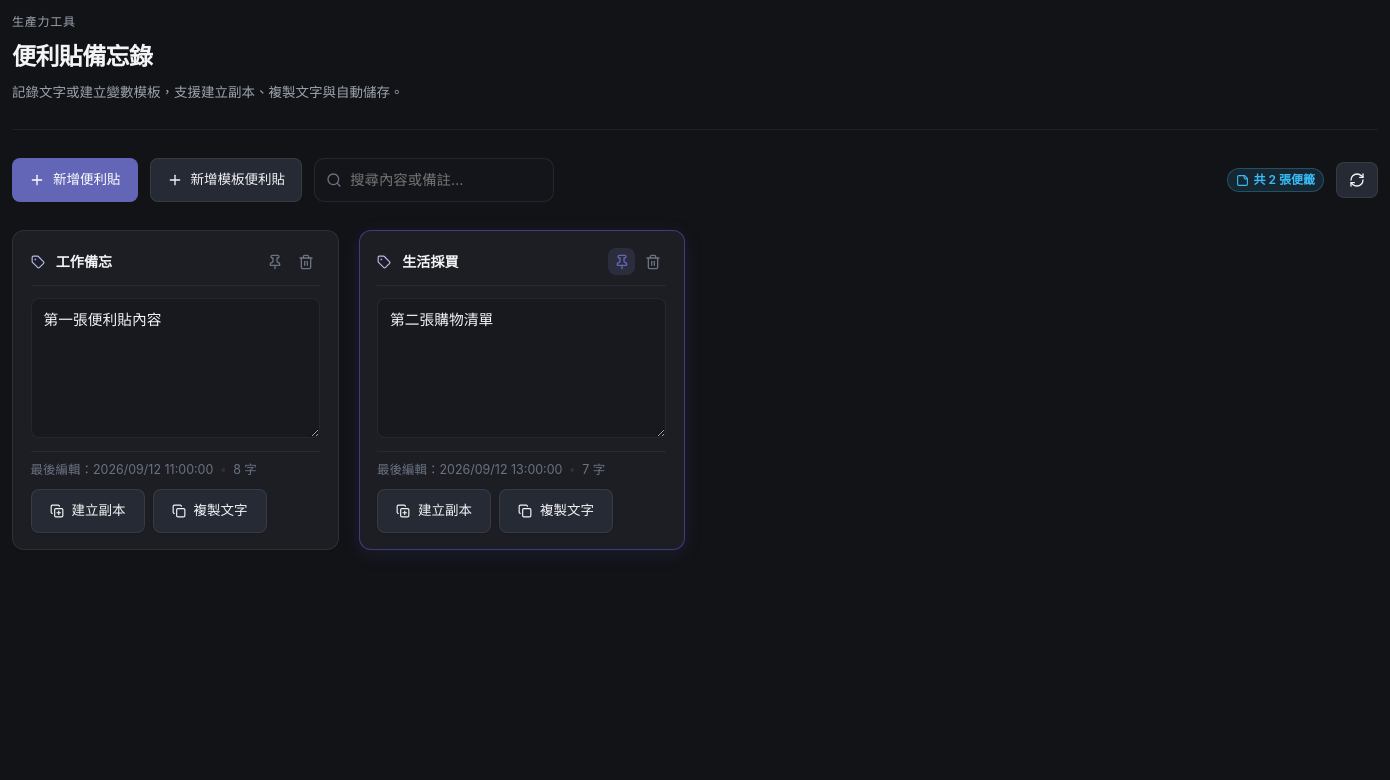
Test case: StickyNotesPage › filters notes based on search query
The width and height of the screenshot is (1390, 780).
Expected: the 1st text box showing "第一張便利貼內容" is shown, [31,298,320,438]
Expected: the 2nd text box showing "第二張購物清單" is shown, [377,298,666,438]
In the field named "搜尋便利貼": (434, 180) [314,158,554,202], type "購物"
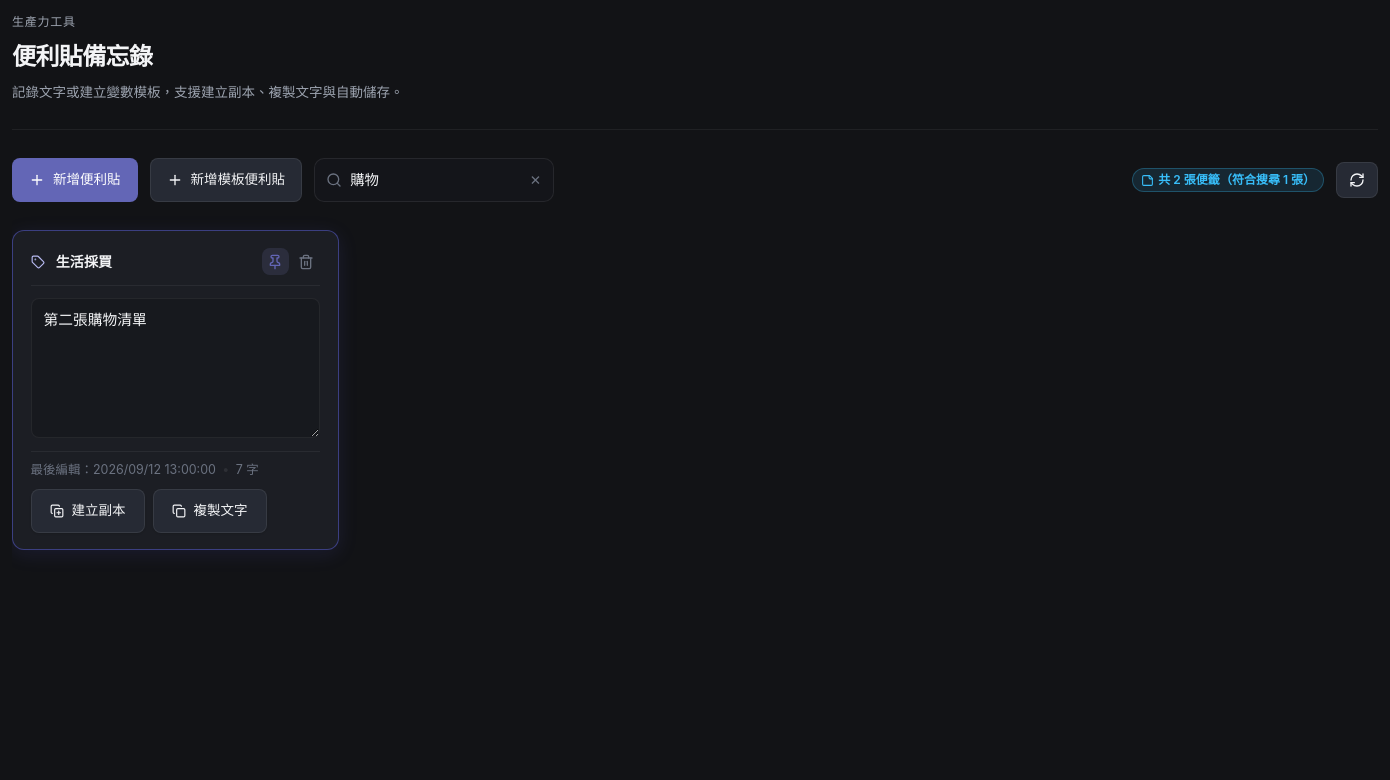
Expected: the field showing "第一張便利貼內容" is not shown
Now the text "共 2 張便籤（符合搜尋 1 張）" is shown, box [1158,172,1315,188]
